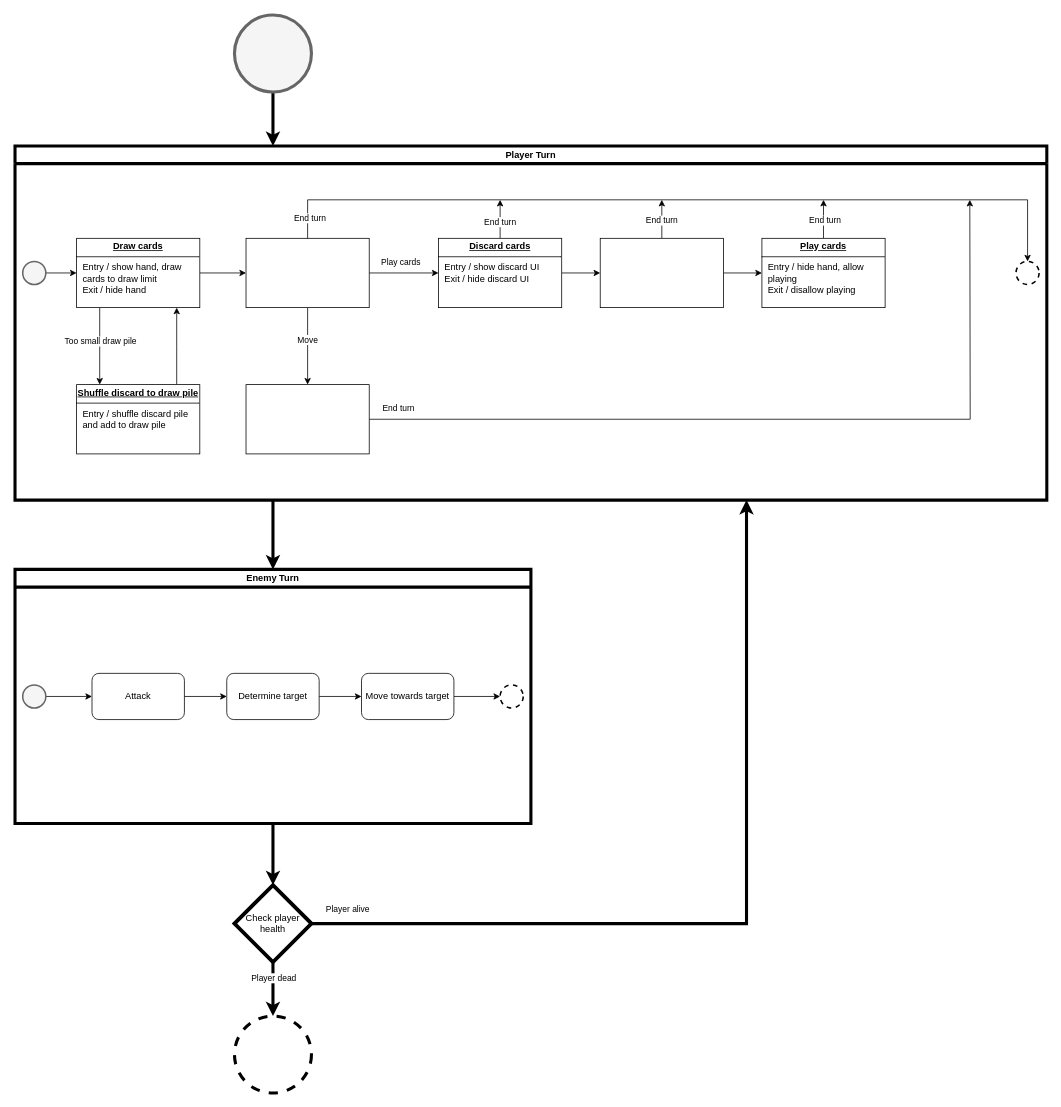
This 1061x1107 diagram has some shape labels left out. Each missing label, with the centre of its shape:
Activate cards Entry / allow activation Exit / disallow activation, hide hand: (661,273)
Ask move or play cards Entry / show question UI Exit / hide question UI: (307,273)
Move Entry / enable movement Exit / disable movement: (307,419)
Room Entry: (273,53)
Room Exit: (273,1054)
